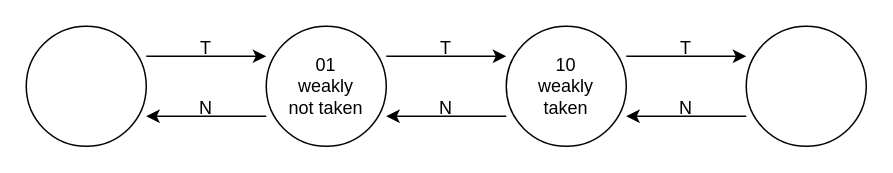
The diagram is 893 pixels wide and 173 high, and some of its shapes have lost their labels. The centre of each missing label's shape, as x and y in pixels:
00 strongly not taken: the point at 85,85
11 strongly taken: the point at 805,85
